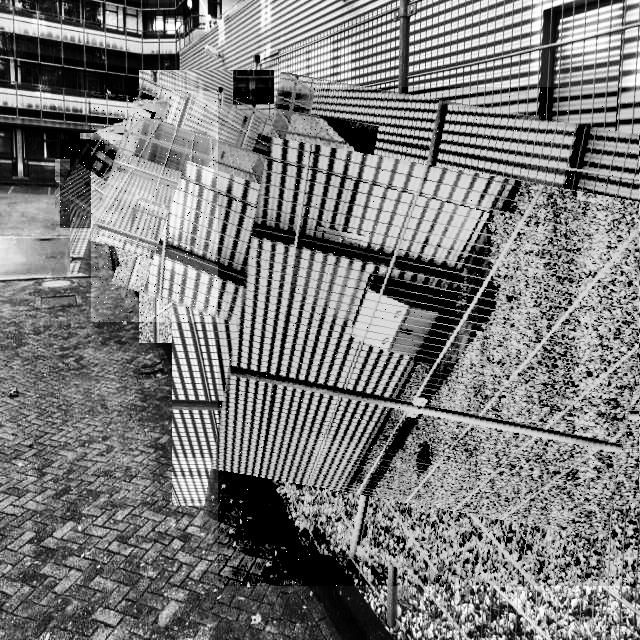fences: (218, 87, 640, 586), (91, 91, 322, 322), (60, 139, 149, 228)
